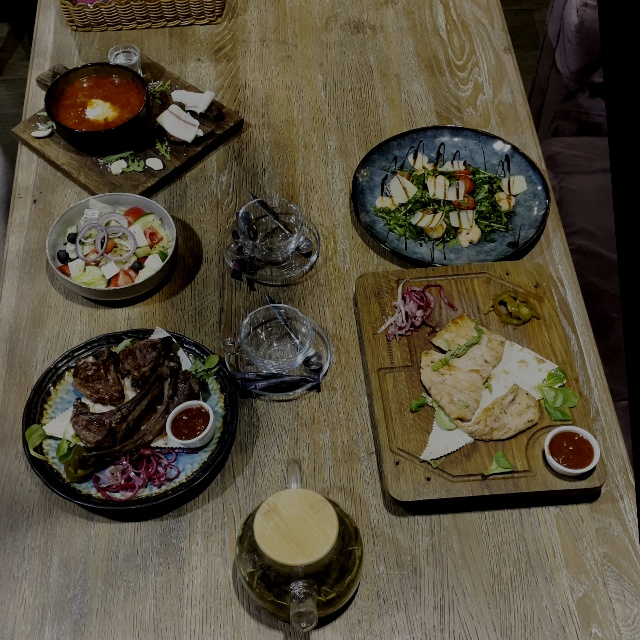Греческий салат: (35, 181, 191, 316)
На дерев. с соусом и луком: (348, 250, 608, 521)
Ребрышки с соусом: (6, 314, 245, 532)
Салат с курицей: (333, 110, 559, 272)
Суп с салом: (0, 31, 262, 222)
Чайник: (208, 448, 390, 640)
